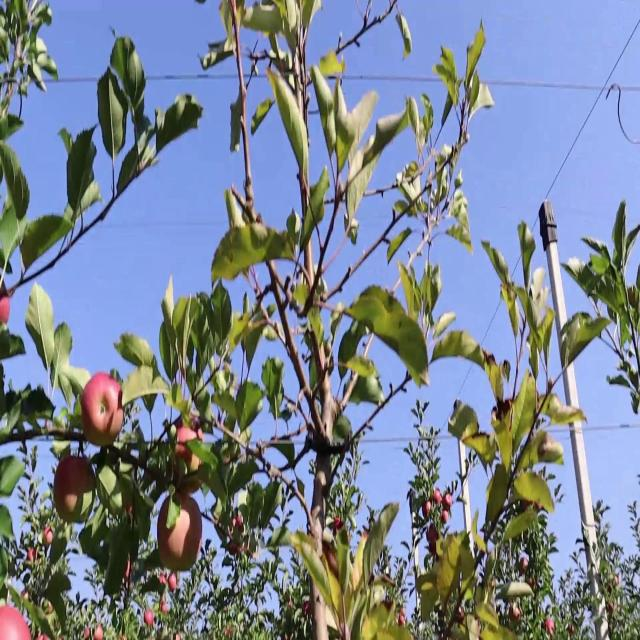apple: (160, 490, 204, 574), (80, 376, 126, 450), (56, 455, 96, 519), (172, 497, 204, 574), (52, 455, 83, 524), (176, 419, 208, 480), (156, 497, 178, 572), (52, 478, 80, 526), (72, 455, 98, 500), (0, 604, 32, 639), (228, 511, 247, 555), (440, 561, 459, 603), (420, 583, 439, 619), (448, 540, 461, 569), (428, 526, 440, 555), (432, 490, 443, 505), (424, 504, 434, 519)
